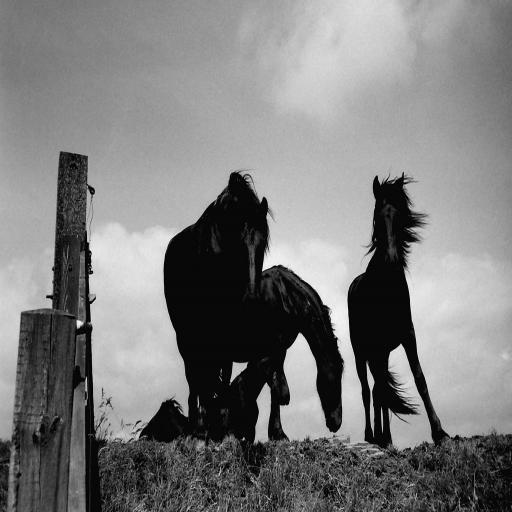horse: (162, 165, 276, 439), (346, 168, 454, 452), (198, 261, 345, 434), (214, 355, 290, 445), (136, 393, 189, 442)
